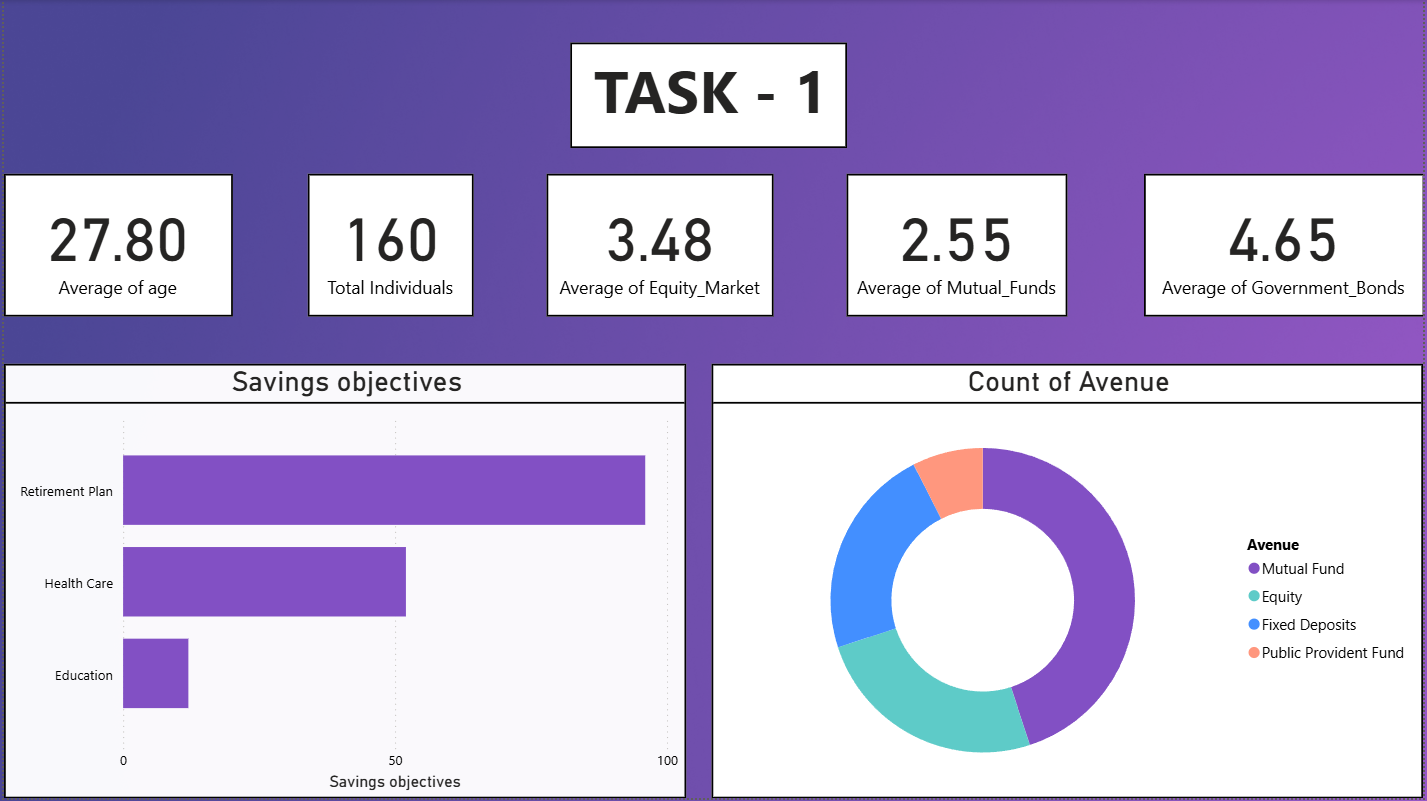

What the dashboard file says about the page in this screenshot:
{"tool":"powerbi","page":{"name":"Task 1","canvas":[1280,720],"ordinal":0},"visuals":[{"type":"barChart","title":"Savings objectives","fields":{"Category":["Data_set 2.What are your savings objectives?"],"Y":["CountNonNull(Data_set 2.What are your savings objectives?)"]},"box":[0,328,615.4,392.2],"z":0},{"type":"card","fields":{"Values":["Avg(Data_set 2.age)"]},"box":[0,156.7,206.3,128.5],"z":1000},{"type":"card","fields":{"Values":["Data_set 2.Total Individuals"]},"box":[273.9,156.7,149.9,128.5],"z":2000},{"type":"donutChart","title":"Count of Avenue","fields":{"Y":["CountNonNull(Data_set 2.Avenue)"],"Category":["Data_set 2.Avenue"]},"box":[637.9,328,641.3,392.2],"z":3000},{"type":"card","fields":{"Values":["Avg(Data_set 2.Equity_Market)"]},"box":[489.2,156.7,205.1,128.5],"z":4000},{"type":"card","fields":{"Values":["Avg(Data_set 2.Mutual_Funds)"]},"box":[759.7,156.7,199.5,128.5],"z":5000},{"type":"card","fields":{"Values":["Avg(Data_set 2.Government_Bonds)"]},"box":[1027.9,156.7,252.5,128.5],"z":6000},{"type":"textbox","box":[511.1,37.9,249.5,95.4],"z":7000}]}

Visuals, with their boxes in screenshot pixels (x1, y1, x2, y2), scaled from the page's 1280x720 canvas onto the 1427x801 screenshot:
"Savings objectives" barChart: crop(0, 365, 686, 800)
card - Avg(Data_set 2.age): crop(0, 174, 230, 317)
card - Data_set 2.Total Individuals: crop(305, 174, 472, 317)
"Count of Avenue" donutChart: crop(711, 365, 1426, 800)
card - Avg(Data_set 2.Equity_Market): crop(545, 174, 774, 317)
card - Avg(Data_set 2.Mutual_Funds): crop(847, 174, 1069, 317)
card - Avg(Data_set 2.Government_Bonds): crop(1146, 174, 1426, 317)
textbox: crop(570, 42, 848, 148)
